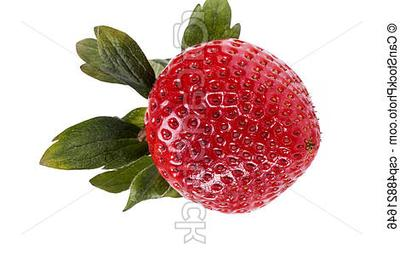strawberry: (0, 0, 400, 255)
